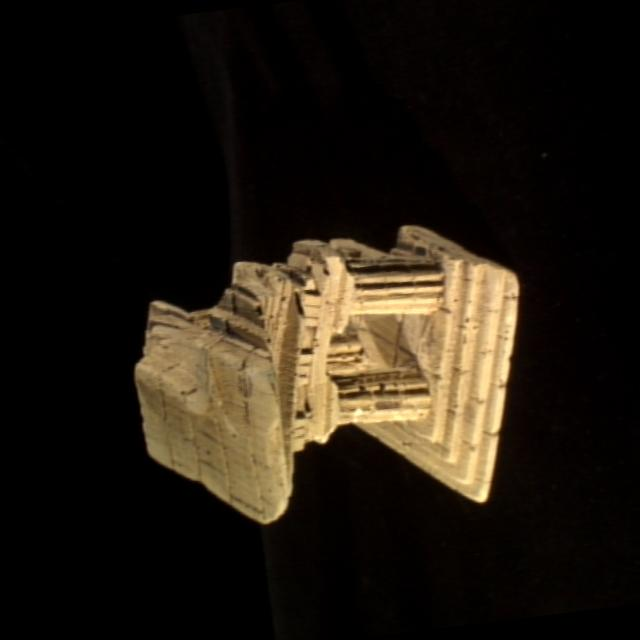Instance-Segmentation: (136, 228, 519, 523)
